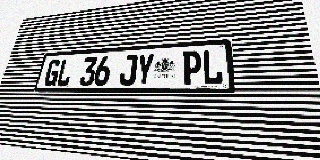3: (79, 57, 98, 86)
6: (93, 56, 112, 86)
G: (43, 59, 62, 86)
J: (119, 54, 138, 85)
L: (202, 49, 223, 85), (55, 58, 74, 86)
P: (182, 50, 202, 85)
Y: (135, 53, 155, 85)
